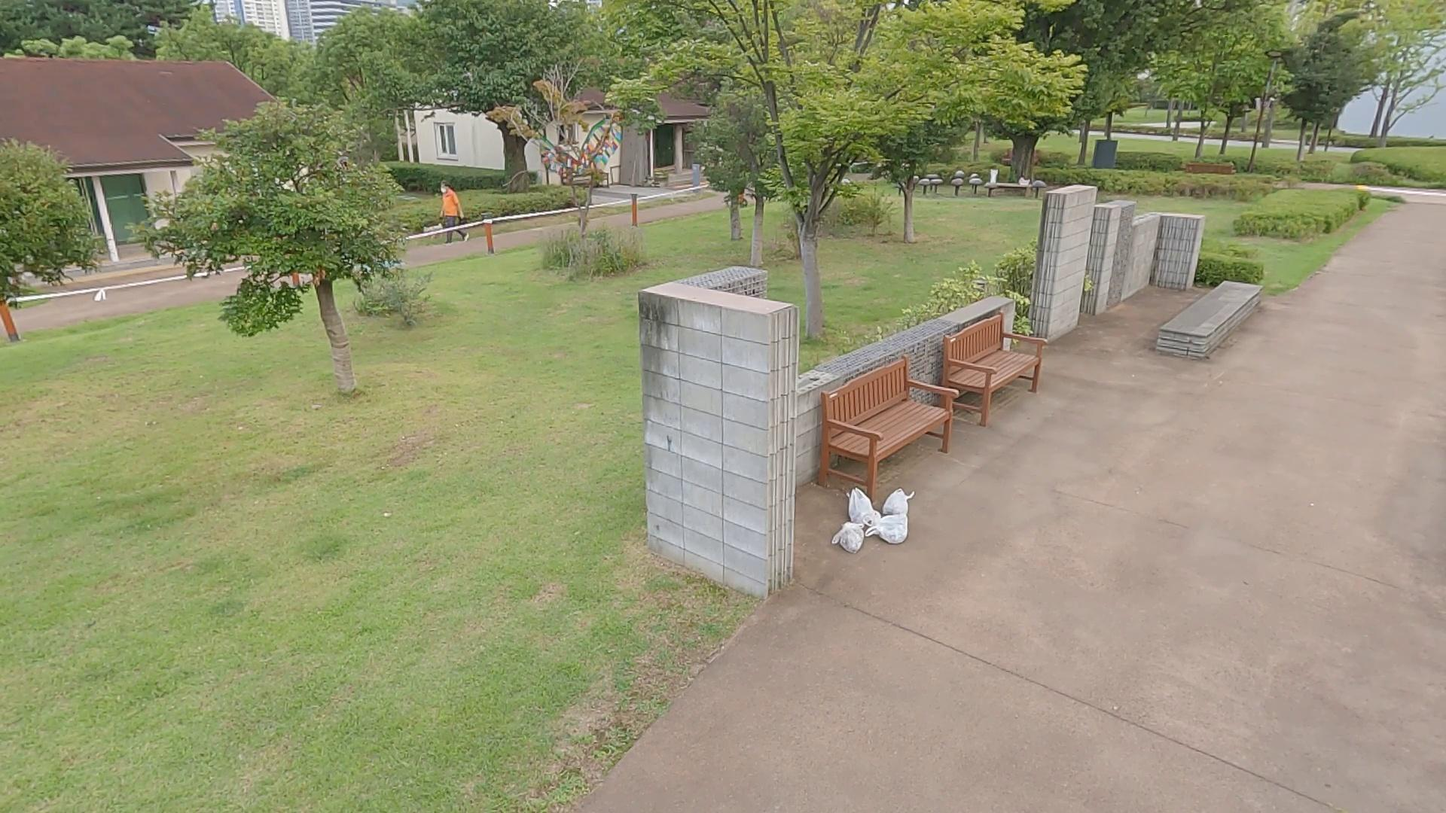person: (421, 177, 481, 252)
trash: (860, 513, 916, 547), (843, 486, 882, 525), (829, 520, 869, 554), (881, 486, 919, 519)
